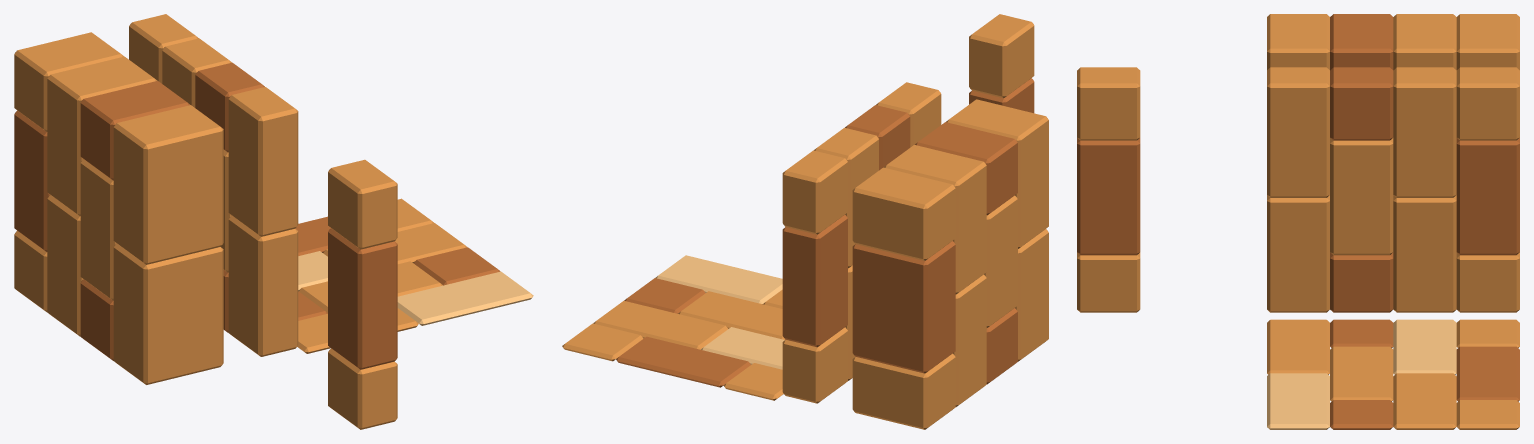
Rendered from wooden-environment.fbx.
3 renders of one model, left to right at view 1: azimuth 30°, elevation 25°; view 2: azimuth 150°, elevation 25°; view 3: azimuth 270°, elevation 25°, orthographic. The views are drawn at different scales.
Visible parts, largest first — view 1: wall2x4, wall1x4, wall1x1, floor; view 2: wall2x4, wall1x4, floor, wall1x1; view 3: wall1x4, floor, wall1x1, wall2x4.
Boxes of the visible parts, x1=… form: wall2x4: x1=14, y1=32, x2=223, y2=384; wall1x4: x1=129, y1=14, x2=298, y2=356; wall1x1: x1=328, y1=159, x2=397, y2=429; floor: x1=295, y1=198, x2=533, y2=353; wall2x4: x1=852, y1=99, x2=1048, y2=429; wall1x4: x1=782, y1=82, x2=941, y2=403; floor: x1=562, y1=255, x2=785, y2=400; wall1x1: x1=969, y1=14, x2=1034, y2=113; wall1x4: x1=1267, y1=67, x2=1519, y2=312; floor: x1=1267, y1=319, x2=1519, y2=429; wall1x1: x1=1077, y1=67, x2=1140, y2=312; wall2x4: x1=1267, y1=14, x2=1519, y2=70.
Bounding box in the file's own units: 3.4 × 2.07 × 3.5.
